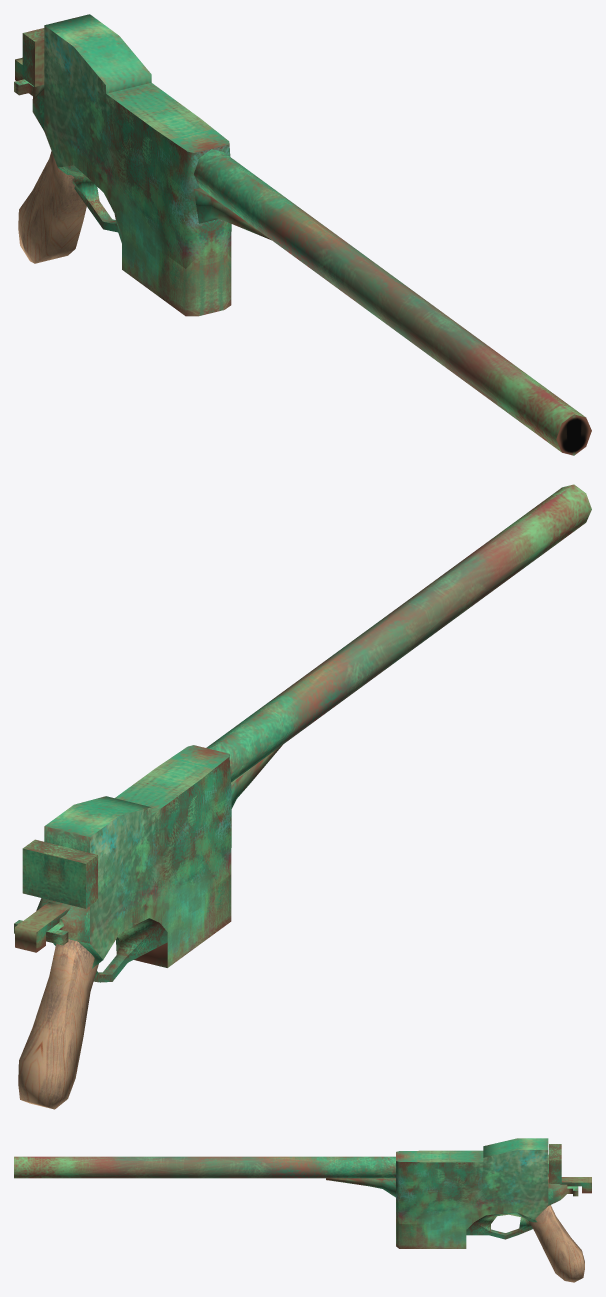
The model's file is pistol.glb.
The picture shows the model from 3 angles, top to bottom: view 1: azimuth 30°, elevation 25°; view 2: azimuth 150°, elevation 25°; view 3: azimuth 270°, elevation 25°; orthographic projection. The views are drawn at different scales.
Visible parts, largest first — view 1: pistol, slide; view 2: pistol, slide; view 3: pistol, slide.
Boxes of the visible parts, x1,y1,x2,y2 form: pistol: (14,14,591,455); slide: (22,28,44,86); pistol: (14,484,591,1109); slide: (22,839,97,908); pistol: (14,1138,591,1282); slide: (548,1144,561,1183).
Size of the model in its own units: 0.0435 by 0.169 by 0.6546.
1 material, 1 textured.
